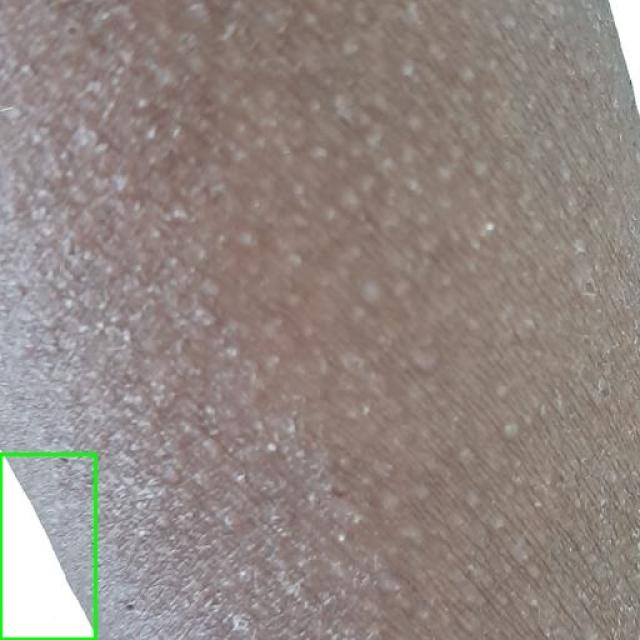Contact Dermatitis: (0, 454, 95, 639)
